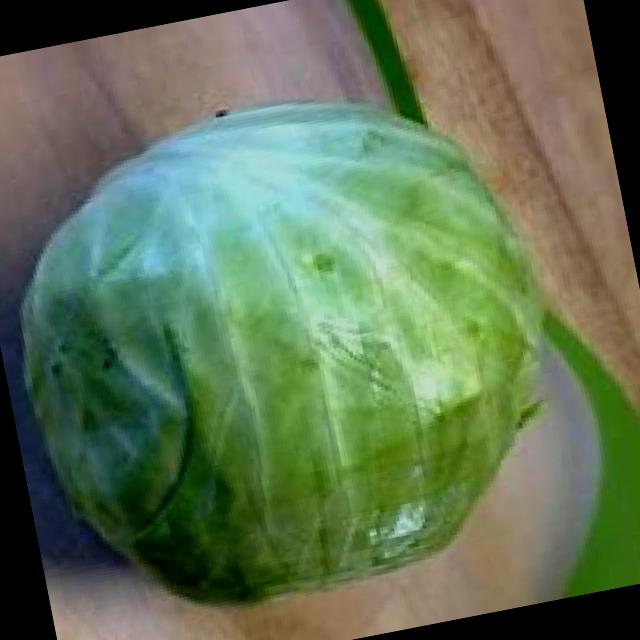cabbage: (0, 62, 600, 640)
